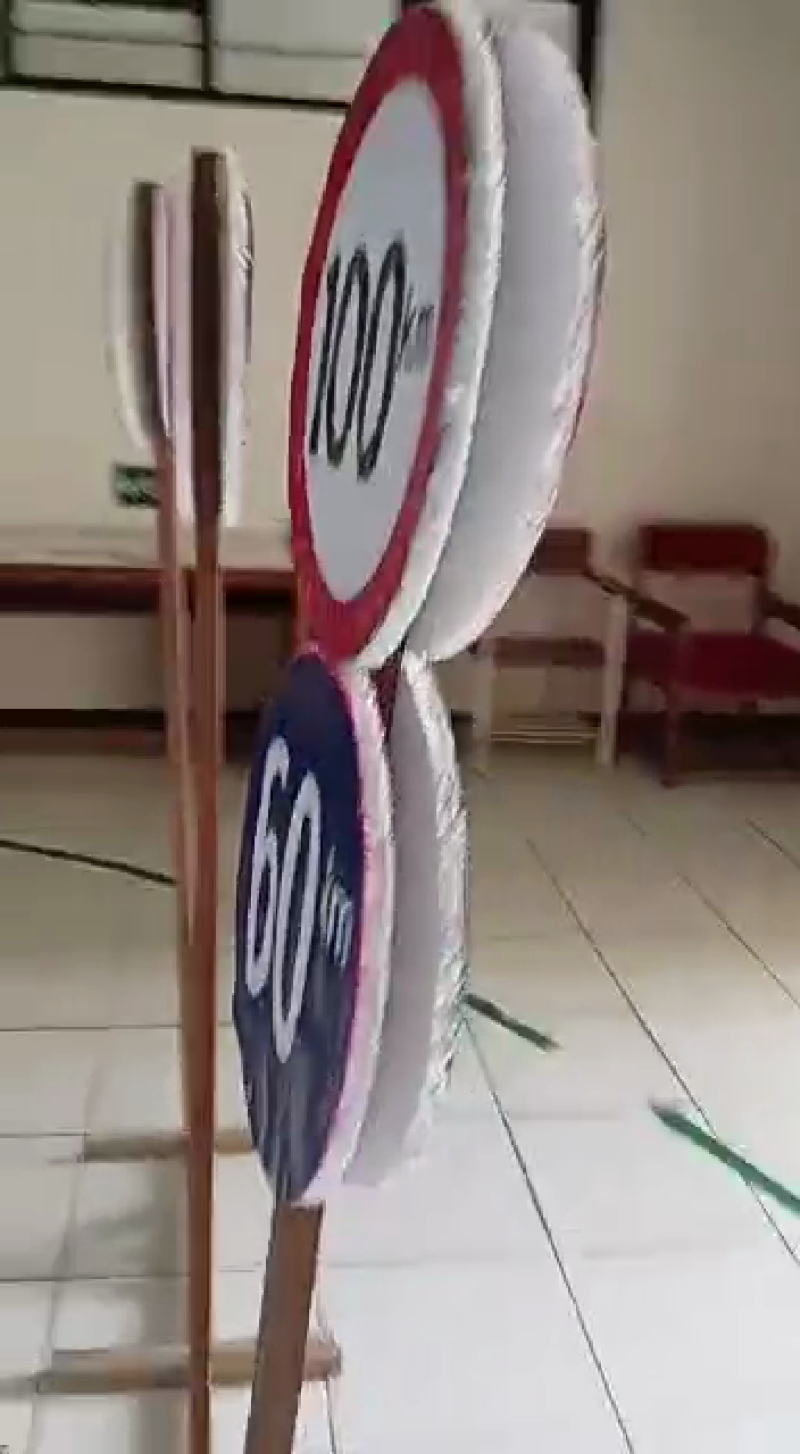batas maksimal 100kmperjam minimal 60kmperjam: (231, 1, 536, 1228)
